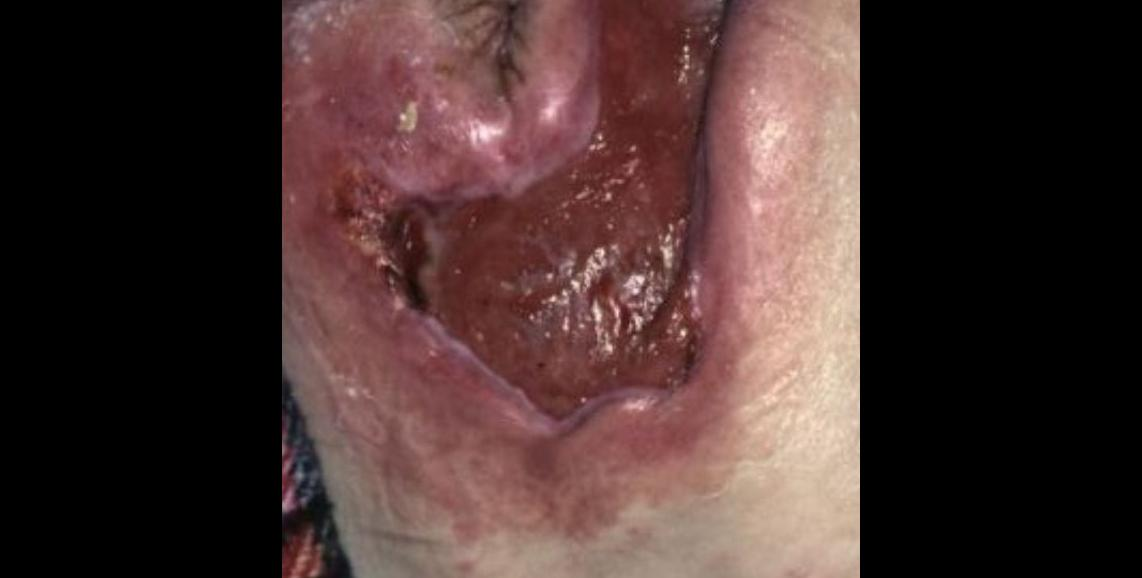Stage3: (325, 0, 789, 474)
